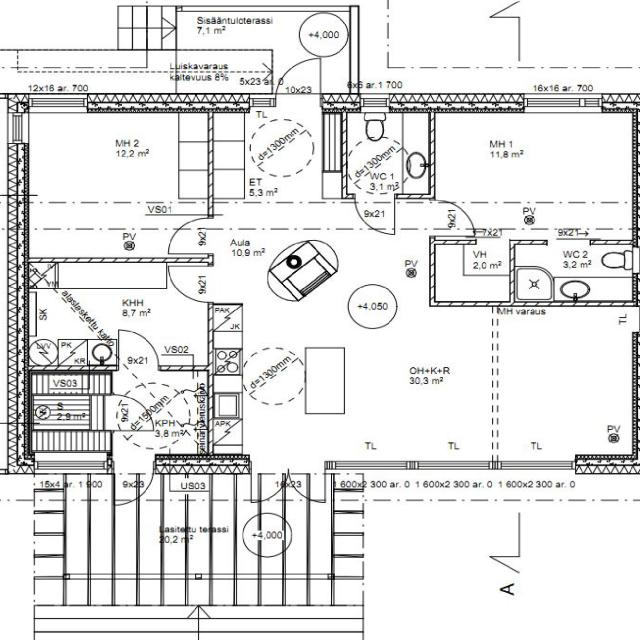door: (276, 53, 321, 114), (114, 454, 153, 510), (250, 454, 288, 508), (288, 454, 326, 508), (118, 330, 158, 371), (168, 218, 213, 254), (429, 200, 474, 236), (355, 194, 395, 234), (168, 267, 213, 302), (107, 396, 151, 430)
